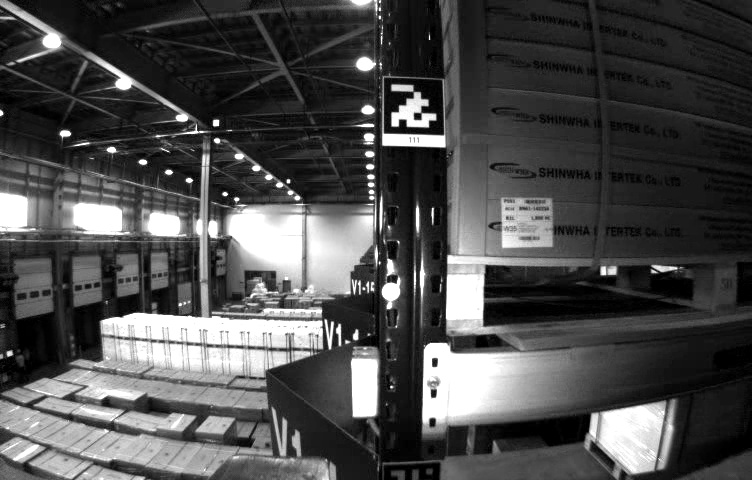True Barcode: (502, 195, 553, 247)
